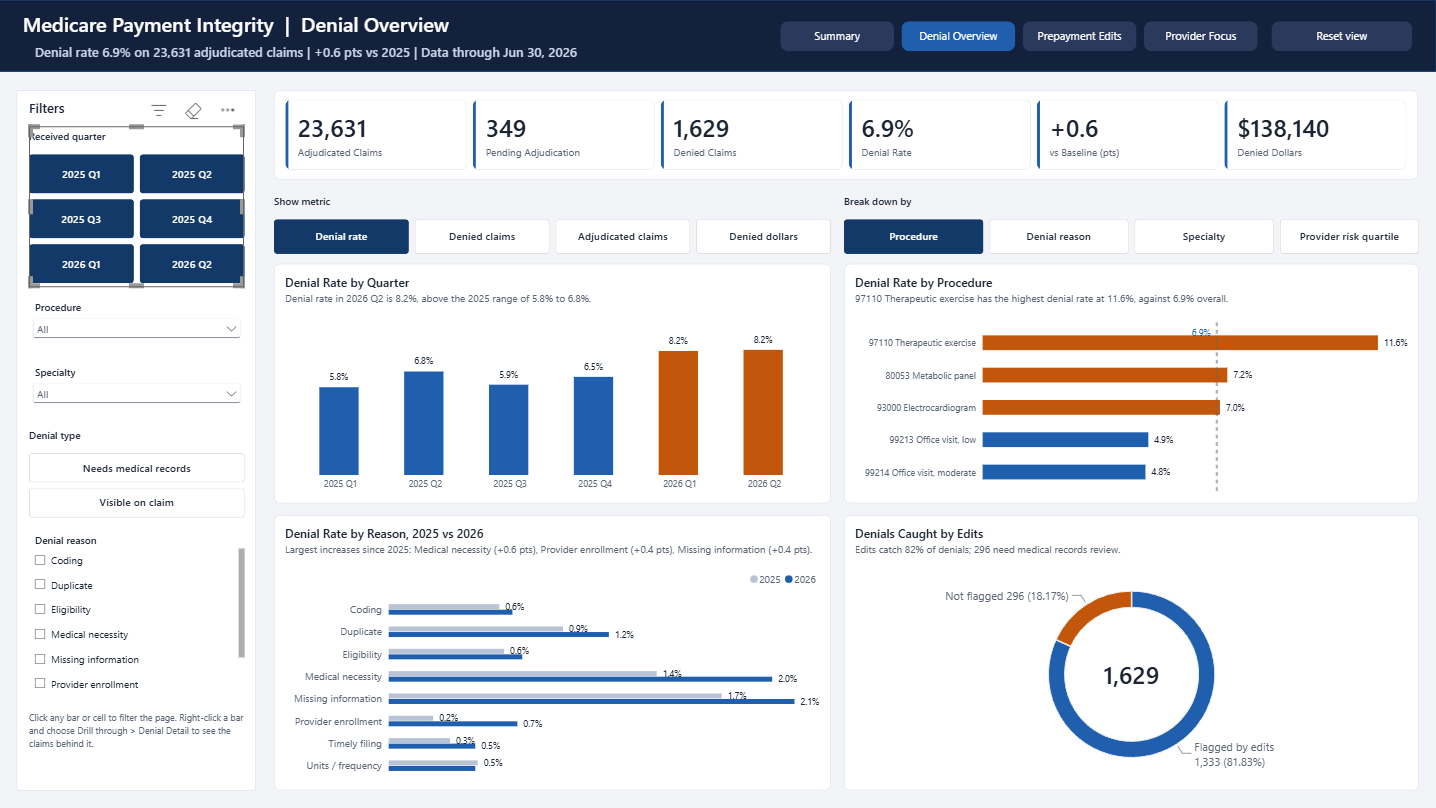

What the dashboard file says about the page in this screenshot:
{"tool":"powerbi","page":{"name":"Denial Overview","canvas":[1920,1080],"ordinal":1},"visuals":[{"type":"shape","box":[0,0,1920,96],"z":1000},{"type":"textbox","box":[32,14,1000,36],"z":2000},{"type":"cardVisual","fields":{"Data":["_Measures.Headline With Date"]},"box":[32,50,1000,38],"z":3000},{"type":"actionButton","box":[1700,28,188,40],"z":4000},{"type":"shape","box":[24,120,320,936],"z":5000},{"type":"textbox","box":[40,132,288,28],"z":6000},{"type":"advancedSlicerVisual","title":"Received quarter","fields":{"Values":["Date.Year Quarter"]},"box":[40,168,288,216],"z":7000},{"type":"slicer","fields":{"Values":["Procedures.Procedure"]},"box":[40,392,288,80],"z":8000},{"type":"slicer","fields":{"Values":["Providers.Specialty"]},"box":[40,480,288,80],"z":9000},{"type":"advancedSlicerVisual","title":"Denial type","fields":{"Values":["Denial Reasons.Denial Type"]},"box":[40,568,288,128],"z":10000},{"type":"slicer","fields":{"Values":["Denial Reasons.Denial Reason"]},"box":[40,704,288,232],"z":11000},{"type":"textbox","box":[40,948,288,96],"z":12000},{"type":"cardVisual","fields":{"Data":["_Measures.Adjudicated Claims","_Measures.Pending Adjudication","_Measures.Denied Claims","_Measures.Denial Rate","_Measures.vs Baseline (pts)","_Measures.Denied Dollars"]},"box":[368,120,1528,120],"z":13000},{"type":"advancedSlicerVisual","title":"Show metric","fields":{"Values":["Metric.Metric"]},"box":[368,256,744,88],"z":14000},{"type":"advancedSlicerVisual","title":"Break down by","fields":{"Values":["Analyze By.Analyze By"]},"box":[1128,256,768,88],"z":15000},{"type":"clusteredColumnChart","fields":{"Category":["Date.Year Quarter","Date.Month"],"Y":["_Measures.Denial Rate"]},"box":[368,352,744,320],"z":16000},{"type":"clusteredBarChart","fields":{"Category":["Procedures.Procedure"],"Y":["_Measures.Denial Rate"]},"box":[1128,352,768,320],"z":17000},{"type":"clusteredBarChart","fields":{"Category":["Denial Reasons.Denial Reason"],"Series":["Date.Year"],"Y":["_Measures.Denial Rate"]},"box":[368,688,744,368],"z":18000},{"type":"donutChart","title":"Denials Caught by Edits","fields":{"Category":["Claim Edit Results.Edit Decision"],"Y":["_Measures.Denied Claims"]},"box":[1128,688,768,368],"z":19000},{"type":"actionButton","box":[1044,28,152,40],"z":901000},{"type":"actionButton","box":[1206,28,152,40],"z":902000},{"type":"actionButton","box":[1368,28,152,40],"z":903000},{"type":"actionButton","box":[1530,28,152,40],"z":904000}]}

Visuals, with their boxes in screenshot pixels (x1, y1, x2, y2), scaled from the page's 1920x1080 canvas onto the 1436x808 screenshot:
shape: x1=0, y1=0, x2=1435, y2=72
textbox: x1=24, y1=10, x2=772, y2=37
cardVisual - _Measures.Headline With Date: x1=24, y1=37, x2=772, y2=66
actionButton: x1=1271, y1=21, x2=1412, y2=51
shape: x1=18, y1=90, x2=257, y2=790
textbox: x1=30, y1=99, x2=245, y2=120
"Received quarter" advancedSlicerVisual: x1=30, y1=126, x2=245, y2=287
slicer - Procedures.Procedure: x1=30, y1=293, x2=245, y2=353
slicer - Providers.Specialty: x1=30, y1=359, x2=245, y2=419
"Denial type" advancedSlicerVisual: x1=30, y1=425, x2=245, y2=521
slicer - Denial Reasons.Denial Reason: x1=30, y1=527, x2=245, y2=700
textbox: x1=30, y1=709, x2=245, y2=781
cardVisual - _Measures.Adjudicated Claims x _Measures.Pending Adjudication: x1=275, y1=90, x2=1418, y2=180
"Show metric" advancedSlicerVisual: x1=275, y1=192, x2=832, y2=257
"Break down by" advancedSlicerVisual: x1=844, y1=192, x2=1418, y2=257
clusteredColumnChart - Date.Year Quarter x Date.Month: x1=275, y1=263, x2=832, y2=503
clusteredBarChart - Procedures.Procedure x _Measures.Denial Rate: x1=844, y1=263, x2=1418, y2=503
clusteredBarChart - Denial Reasons.Denial Reason x Date.Year: x1=275, y1=515, x2=832, y2=790
"Denials Caught by Edits" donutChart: x1=844, y1=515, x2=1418, y2=790
actionButton: x1=781, y1=21, x2=895, y2=51
actionButton: x1=902, y1=21, x2=1016, y2=51
actionButton: x1=1023, y1=21, x2=1137, y2=51
actionButton: x1=1144, y1=21, x2=1258, y2=51
